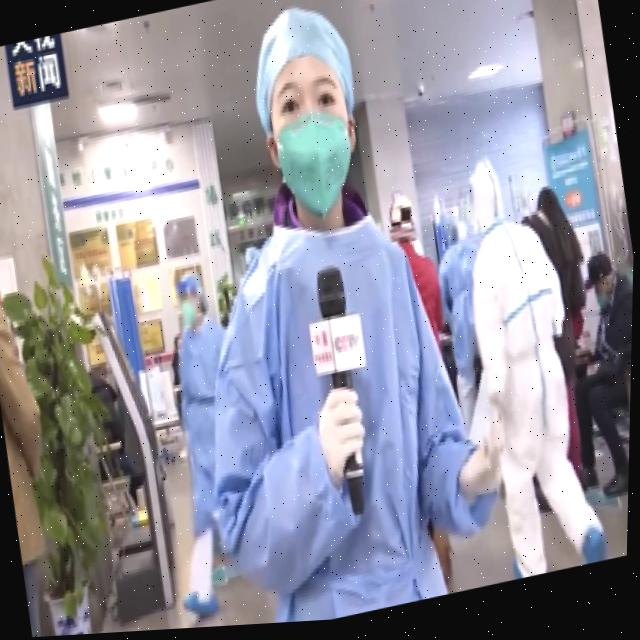Mask: (261, 75, 373, 222), (177, 288, 208, 335), (591, 283, 621, 319), (0, 230, 2, 298)
